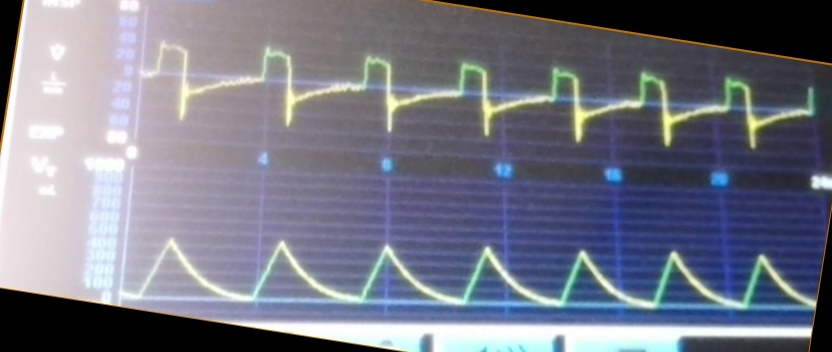Accumulation Flow: (143, 35, 815, 152)
Volume: (130, 222, 813, 312)
